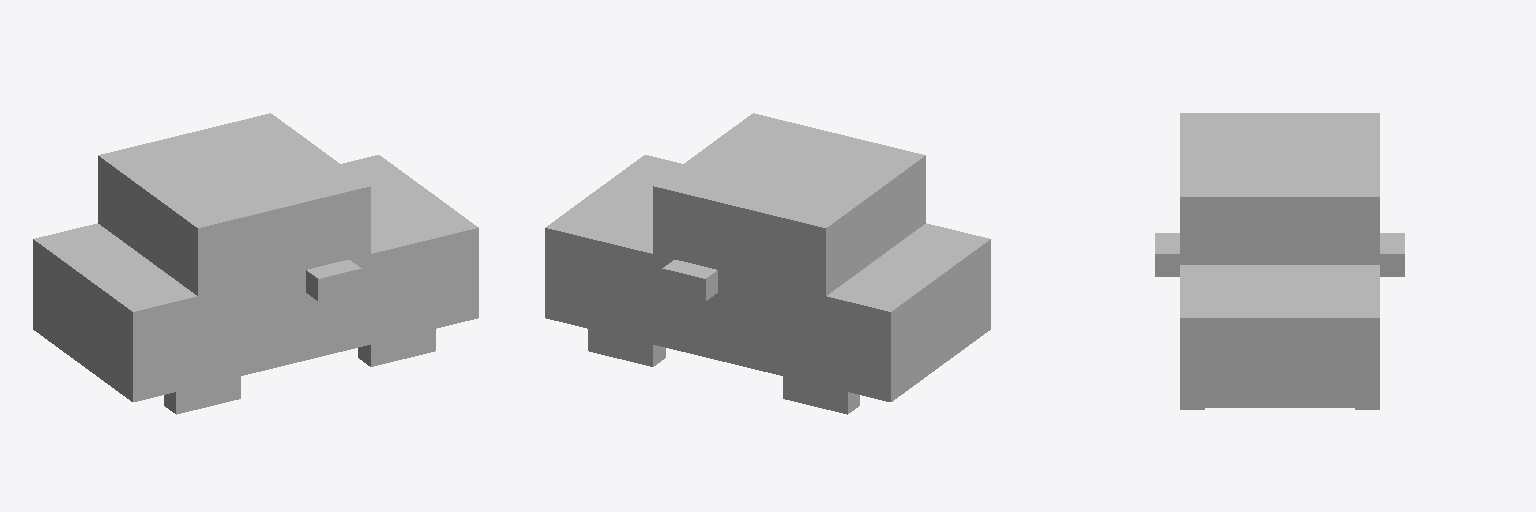
File: car1.obj
The picture shows the model from 3 angles: view 1: azimuth 30°, elevation 25°; view 2: azimuth 150°, elevation 25°; view 3: azimuth 270°, elevation 25°; orthographic projection.
Visible parts, largest first — view 1: object 1; view 2: object 1; view 3: object 1.
Part boxes in pixels (left/top/right/bottom): object 1: left=33, top=113, right=478, bottom=414; object 1: left=545, top=113, right=990, bottom=414; object 1: left=1155, top=113, right=1404, bottom=409.
Size of the model in its own units: 1.6 by 0.8 by 1.